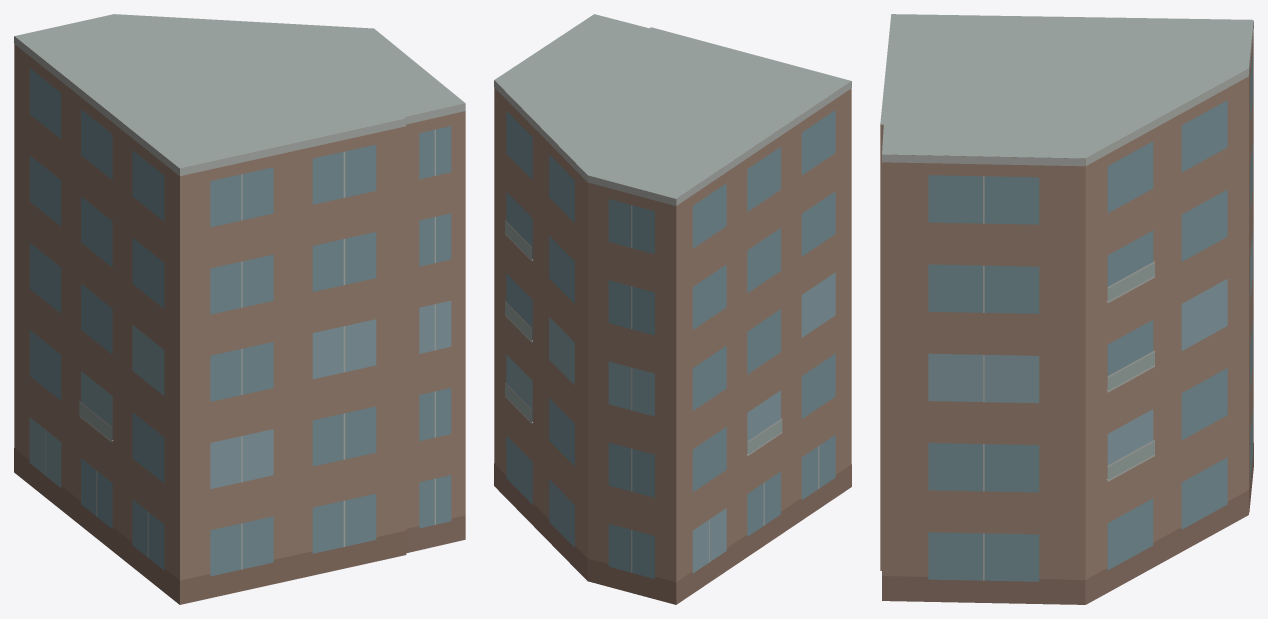
Rendered from survey-upis-32999409.glb.
3 views of the same model, side by side, from view 1: azimuth 30°, elevation 25°; view 2: azimuth 150°, elevation 25°; view 3: azimuth 270°, elevation 25° (orthographic). The views are drawn at different scales.
Parts seen in each view (by area): view 1: survey-upis-32999409.tmp; view 2: survey-upis-32999409.tmp; view 3: survey-upis-32999409.tmp.
Boxes of the visible parts, left/top/right/bottom form: survey-upis-32999409.tmp: left=14, top=14, right=465, bottom=604; survey-upis-32999409.tmp: left=494, top=14, right=851, bottom=604; survey-upis-32999409.tmp: left=880, top=14, right=1253, bottom=604.
Bounding box in the file's own units: 9.64 × 13.88 × 10.54.
